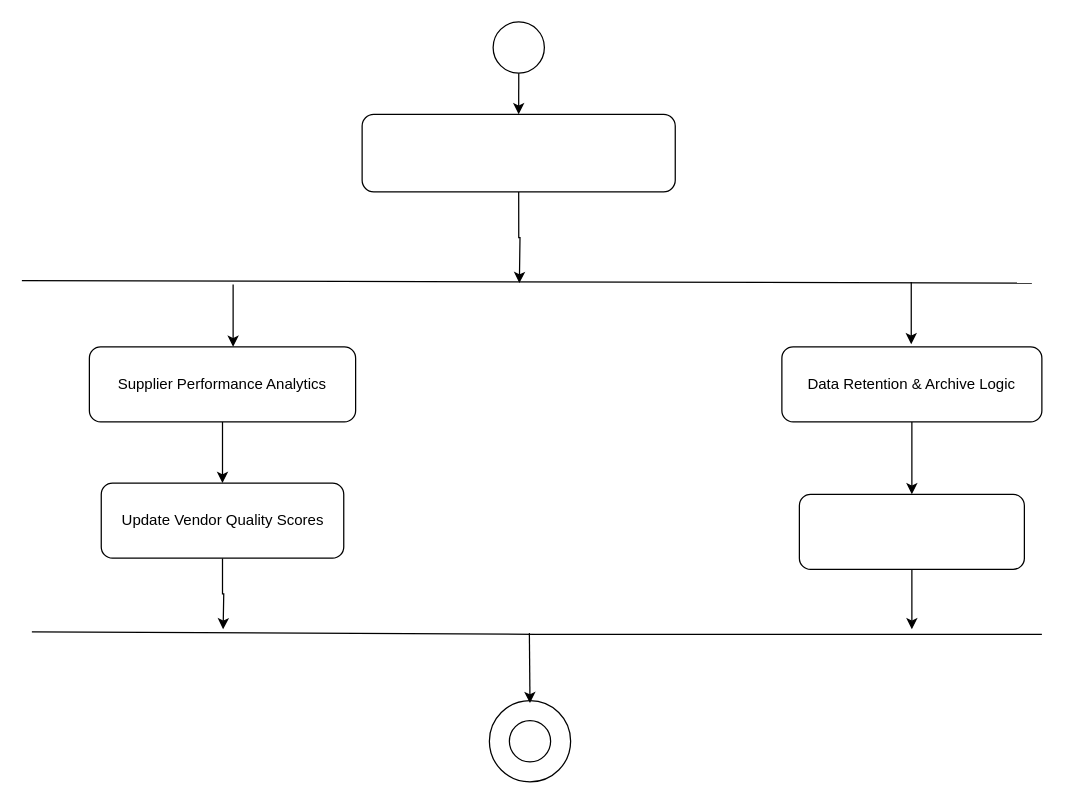
Some shapes in this 1065 by 804 pixel diagram are drawn without their labels. The shapes that lost their labels are listed below. From the top down, each one's centre as x and y in pixels, then its label:
At [518,152]: "End of Period Trigger".
At [911,531]: "Move >12mo Data to Cold Storage".
